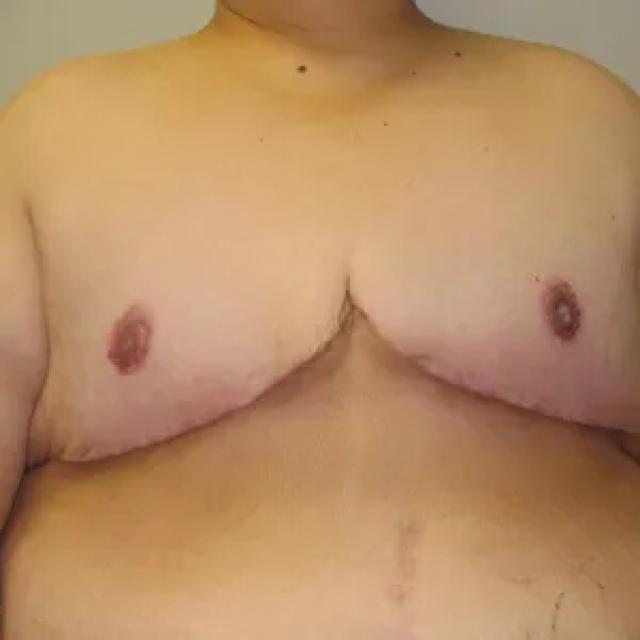Seno herido: (17, 224, 349, 494), (352, 224, 640, 481)
